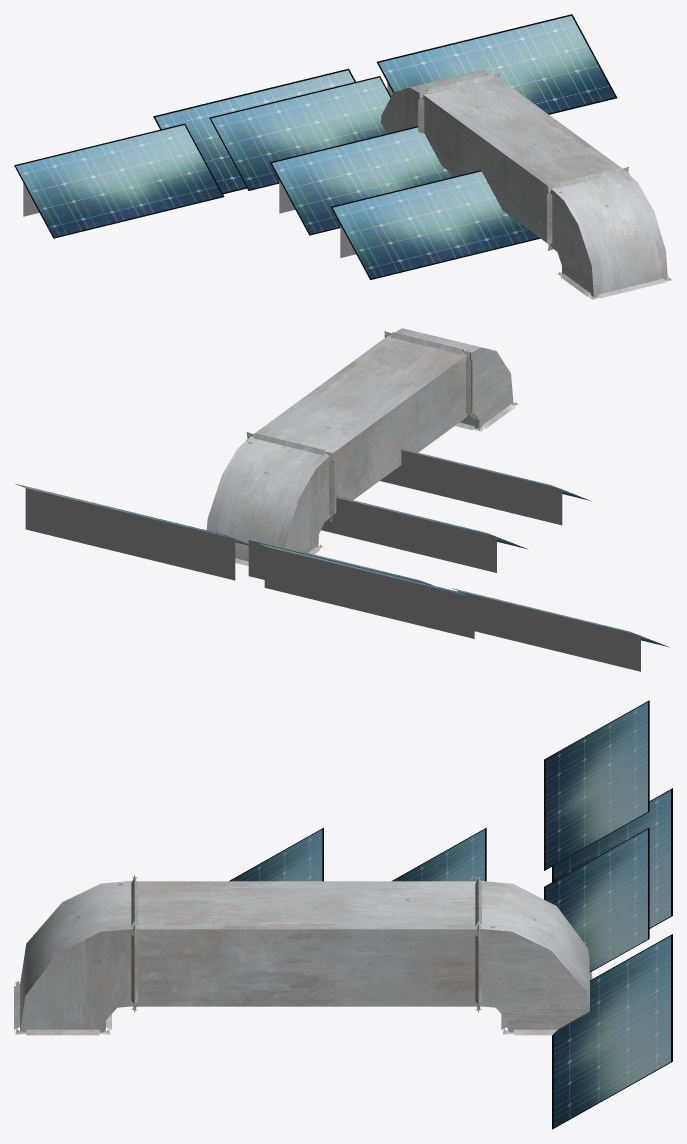
File: nycity_11.gltf
3 views of the same model, one above another, from view 1: azimuth 30°, elevation 25°; view 2: azimuth 150°, elevation 25°; view 3: azimuth 270°, elevation 25° (orthographic). The views are drawn at different scales.
Visible parts, largest first — view 1: nycity_11; view 2: nycity_11; view 3: nycity_11.
Boxes of the visible parts, x1,y1,x2,y2 form: nycity_11: [14, 14, 672, 299]; nycity_11: [15, 328, 669, 671]; nycity_11: [14, 700, 672, 1129].
Size of the model in its own units: 5.65 by 0.7804 by 4.25.
4 materials, 2 textured.
